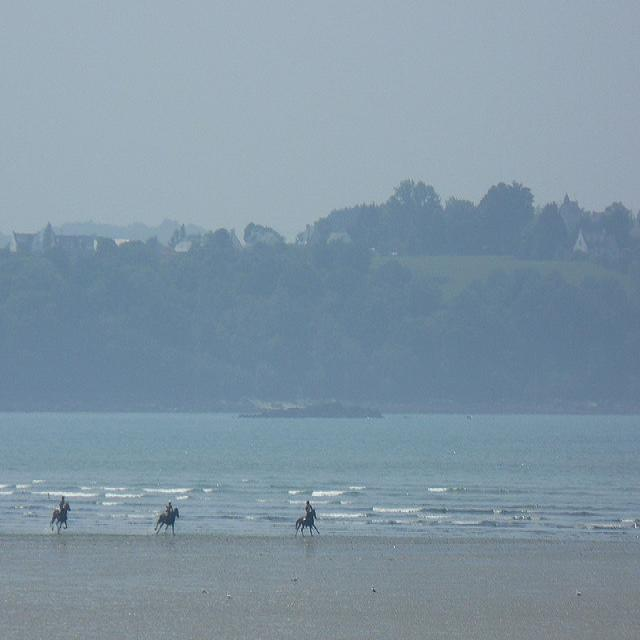horse: (295, 507, 320, 538), (154, 508, 179, 535), (50, 502, 71, 532)
person: (166, 498, 174, 524), (305, 500, 312, 528), (59, 495, 65, 511)
